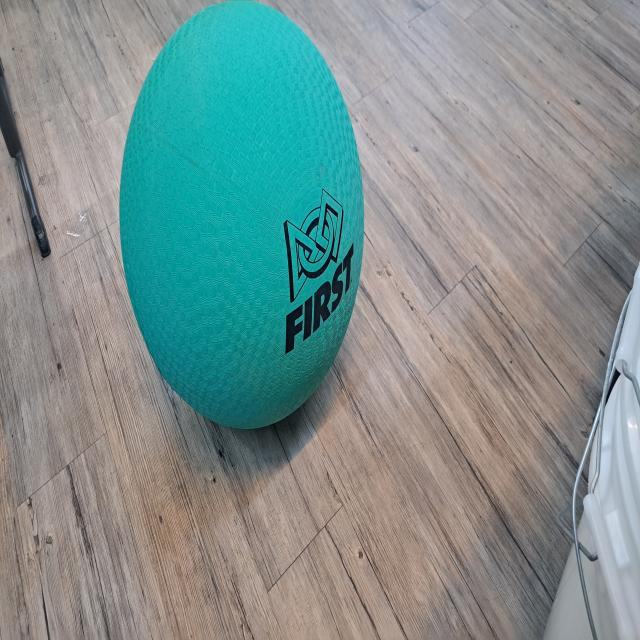ALGAE: (117, 1, 366, 431)
